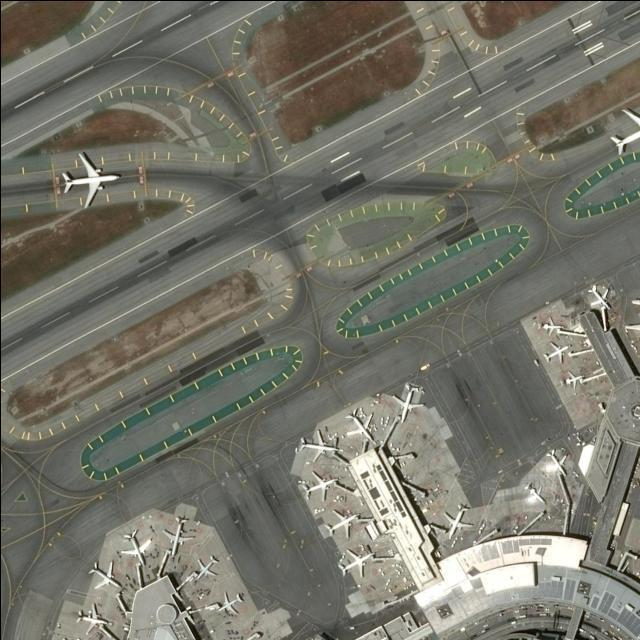Aircraft: (62, 150, 122, 205), (610, 102, 640, 159), (88, 557, 124, 593), (300, 470, 340, 502), (298, 428, 340, 458), (121, 527, 153, 565), (343, 407, 377, 441), (339, 546, 376, 576), (393, 384, 423, 420), (71, 601, 107, 631), (167, 514, 194, 552), (446, 501, 476, 535), (325, 506, 359, 536), (587, 283, 611, 313), (544, 340, 570, 363), (564, 369, 585, 391), (543, 315, 562, 337)
